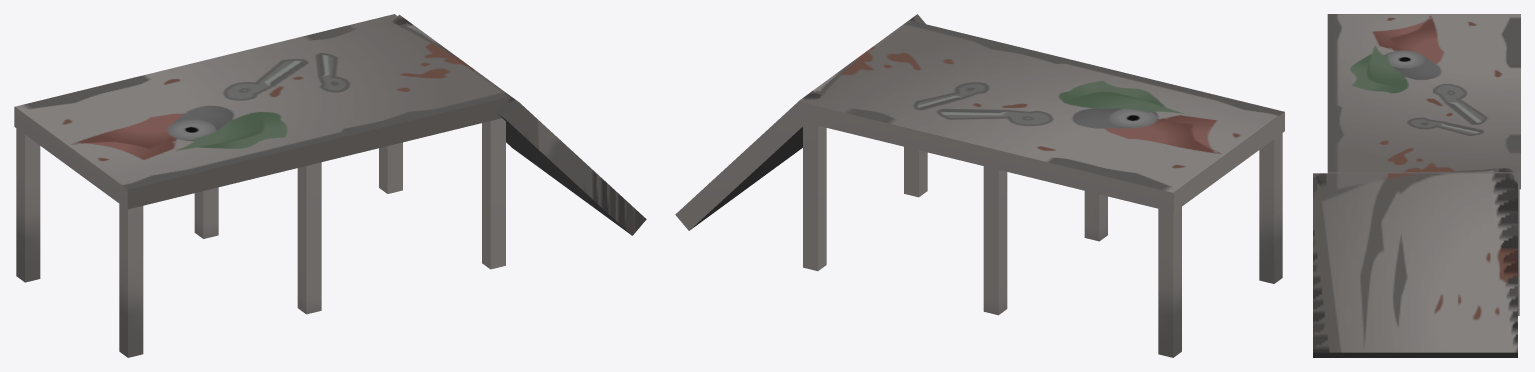
Rendered from Building_AncientTableTailorHand.glb.
3 renders of one model, left to right at view 1: azimuth 30°, elevation 25°; view 2: azimuth 150°, elevation 25°; view 3: azimuth 270°, elevation 25°, orthographic. The views are drawn at different scales.
Parts seen in each view (by area): view 1: AncientTableTailorHand; view 2: AncientTableTailorHand; view 3: AncientTableTailorHand.
Part boxes in pixels (x1=…): AncientTableTailorHand: x1=14, y1=14, x2=646, y2=357; AncientTableTailorHand: x1=675, y1=14, x2=1284, y2=357; AncientTableTailorHand: x1=1313, y1=14, x2=1520, y2=357.
Size of the model in its own units: 2.68 by 0.85 by 1.11.
Materials: 1 (1 with a texture image).
